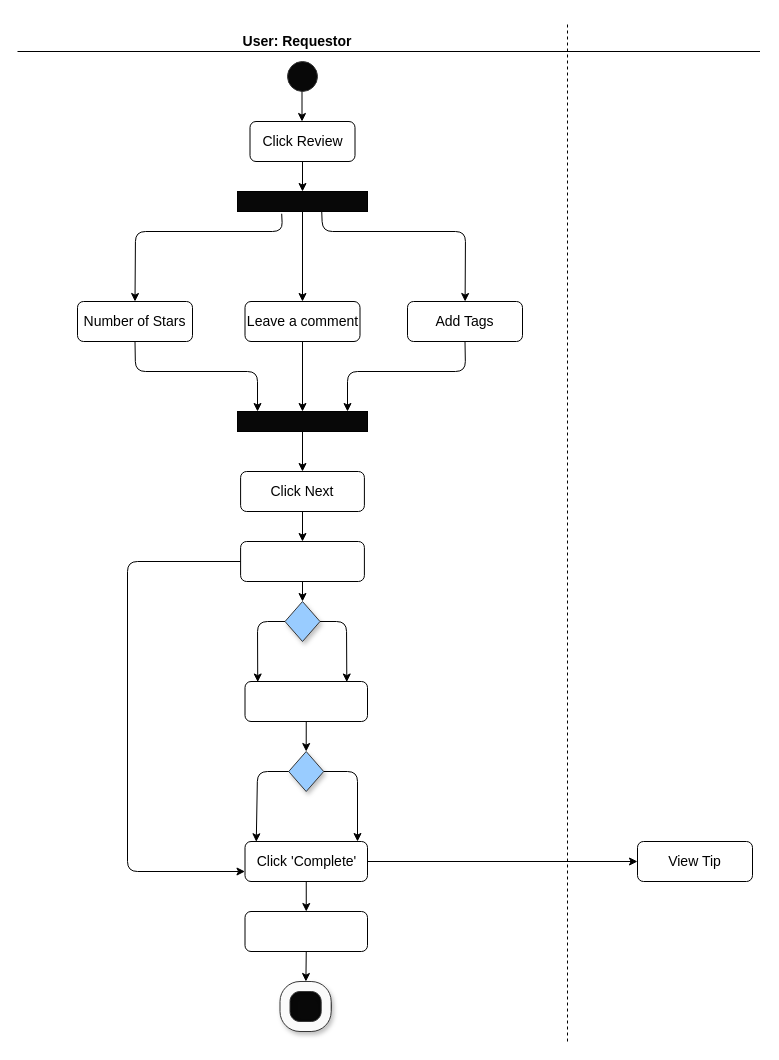
Image size: 779x1060. Some labels were removed from this diagram. The centre of each missing label's shape, as x and y in pixels:
Enter a tip amount: point (302, 561)
Select Card: point (306, 701)
View Review: point (306, 931)
